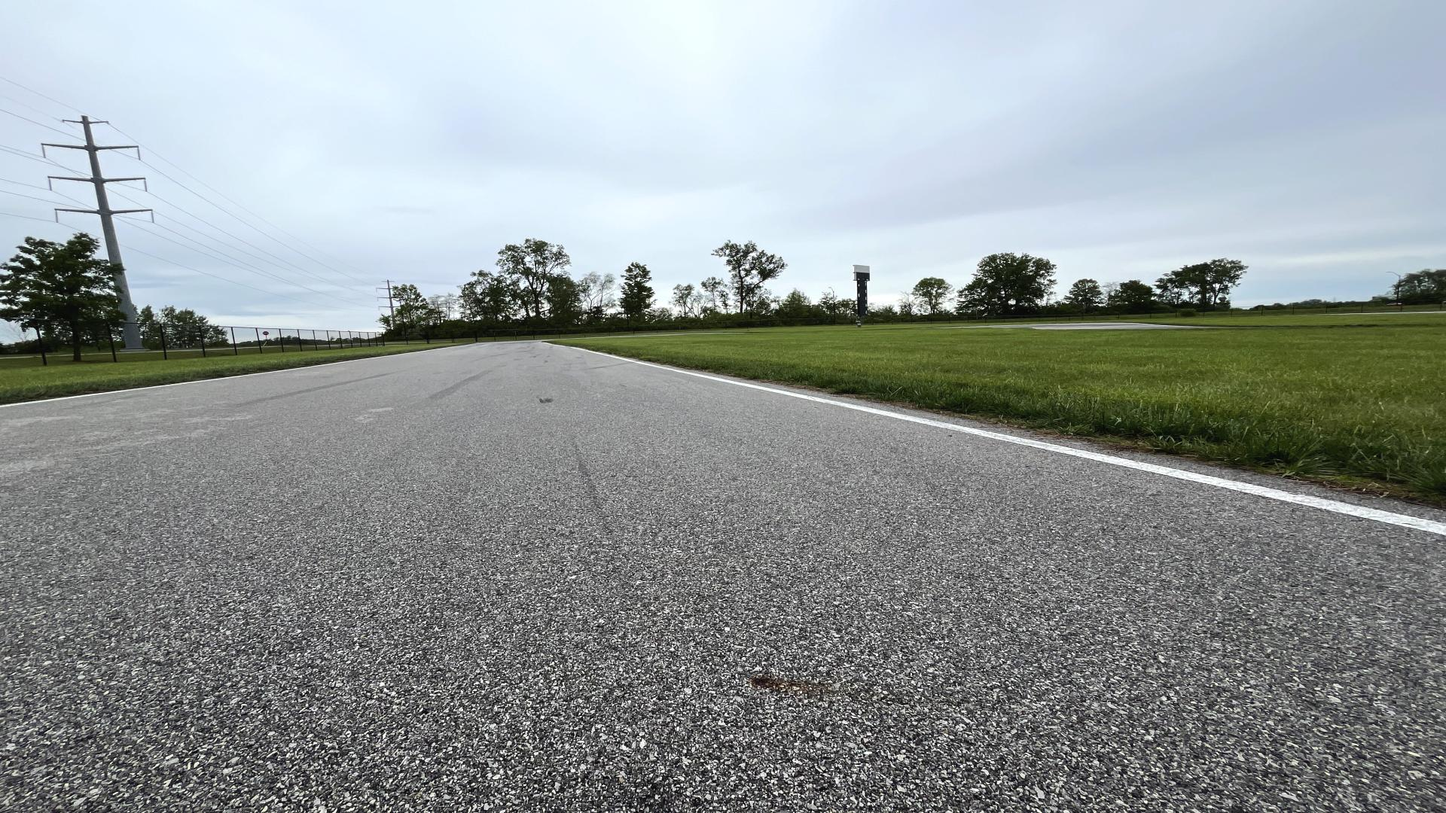white-line: (1091, 451, 1445, 537), (825, 399, 972, 433), (966, 427, 1096, 460), (715, 378, 829, 403), (621, 358, 716, 380), (563, 346, 624, 361), (310, 356, 378, 367), (210, 371, 269, 382), (156, 379, 212, 387), (65, 391, 118, 399), (266, 365, 313, 374), (398, 347, 445, 355), (0, 400, 46, 407), (114, 386, 161, 391), (476, 340, 529, 344), (538, 342, 564, 348), (526, 339, 576, 342), (42, 397, 69, 402), (443, 344, 470, 349), (374, 354, 400, 358), (468, 343, 476, 346)
